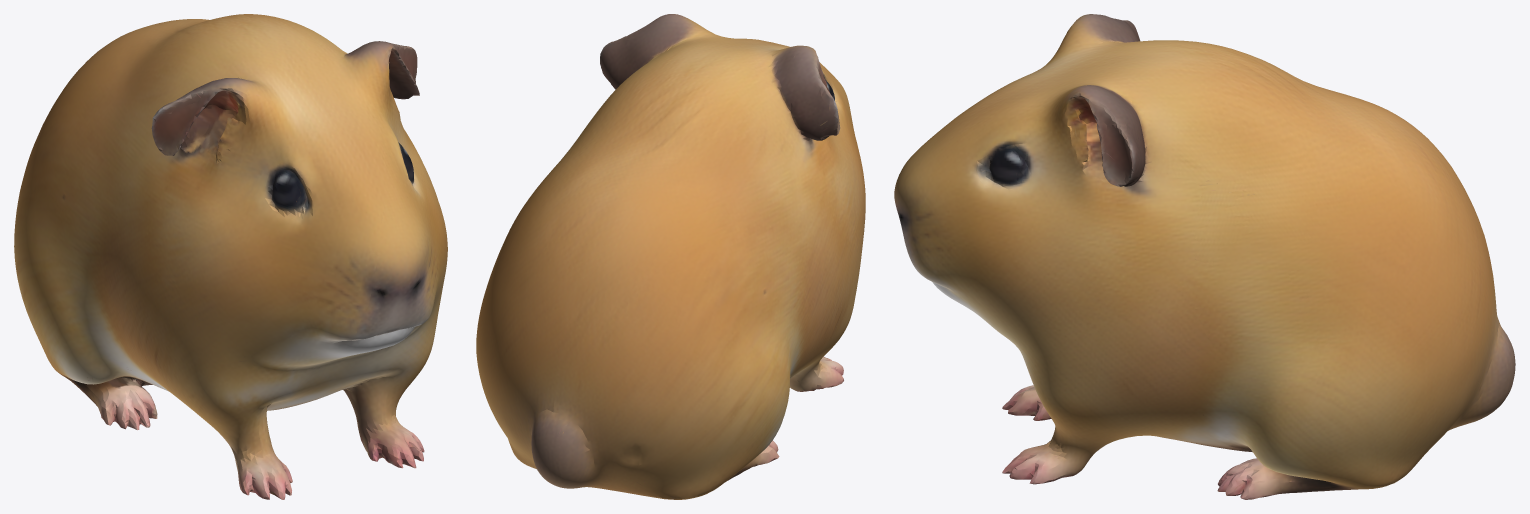
The model's file is hamster.glb.
3 views of the same model, side by side, from view 1: azimuth 30°, elevation 25°; view 2: azimuth 150°, elevation 25°; view 3: azimuth 270°, elevation 25° (orthographic). The views are drawn at different scales.
Parts seen in each view (by area): view 1: model; view 2: model; view 3: model.
Boxes of the visible parts, <box> form: model: <box>14,14,447,499</box>; model: <box>476,14,865,499</box>; model: <box>894,14,1515,499</box>.
Bounding box in the file's own units: 1.09 × 1.31 × 1.9.
1 material, 1 textured.
